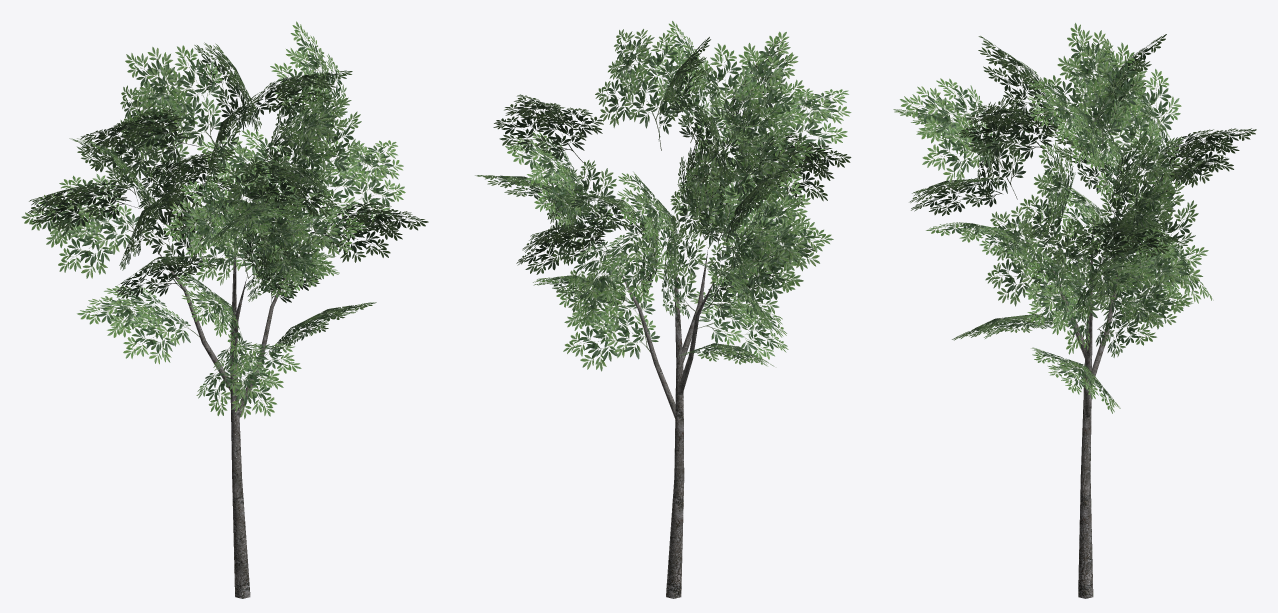
File: ThinTree_low.fbx
3 renders of one model, left to right at view 1: azimuth 30°, elevation 25°; view 2: azimuth 150°, elevation 25°; view 3: azimuth 270°, elevation 25°, orthographic.
Visible parts, largest first — view 1: ThinTree_low; view 2: ThinTree_low; view 3: ThinTree_low.
Part boxes in pixels (x1,y1,x2,y2): ThinTree_low: (21, 21, 428, 598); ThinTree_low: (475, 21, 851, 598); ThinTree_low: (893, 23, 1256, 598).
Size of the model in its own units: 18.02 by 25.84 by 15.68.
